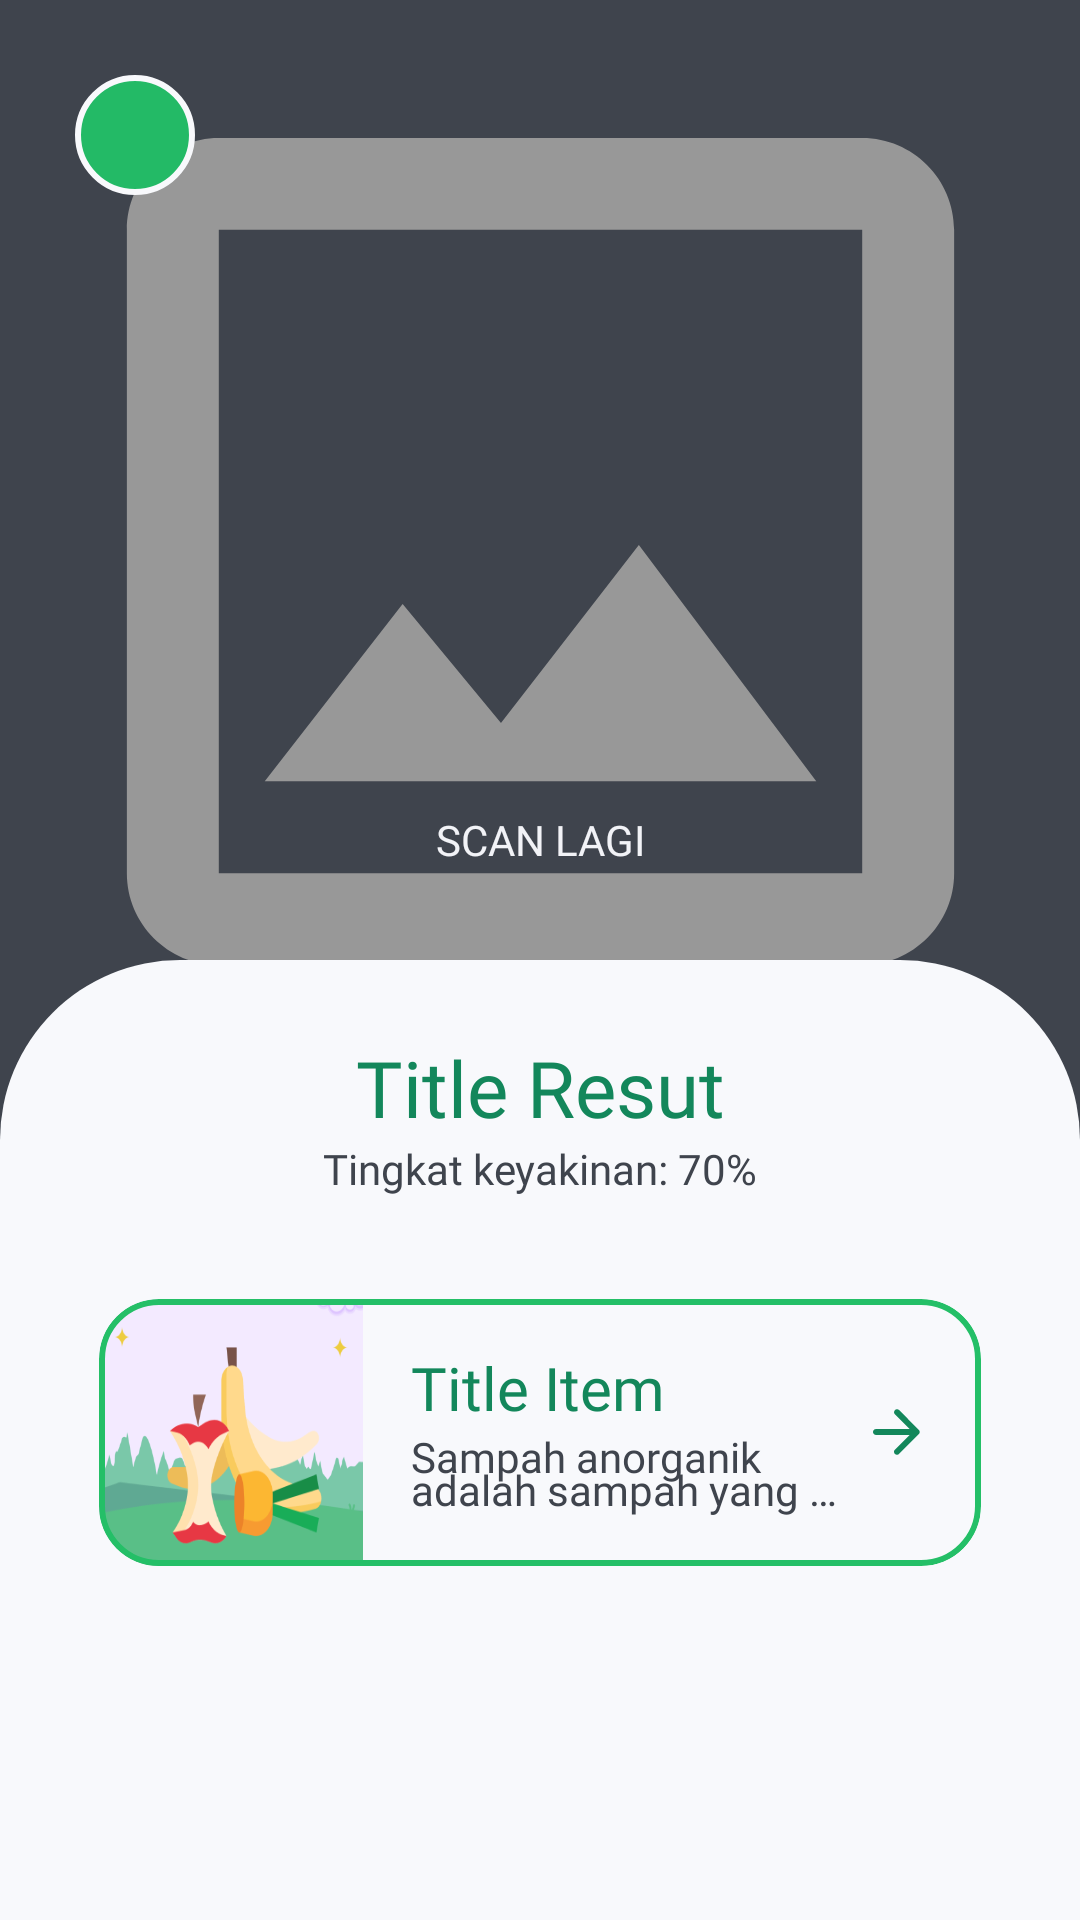

Named icons in this screenshot (1080w x 1920h) and their bounding boxes, (x1=x1, y1=y1, x2=x2, y2=y2):
arrow forward: (x1=873, y1=1409, x2=920, y2=1455)
